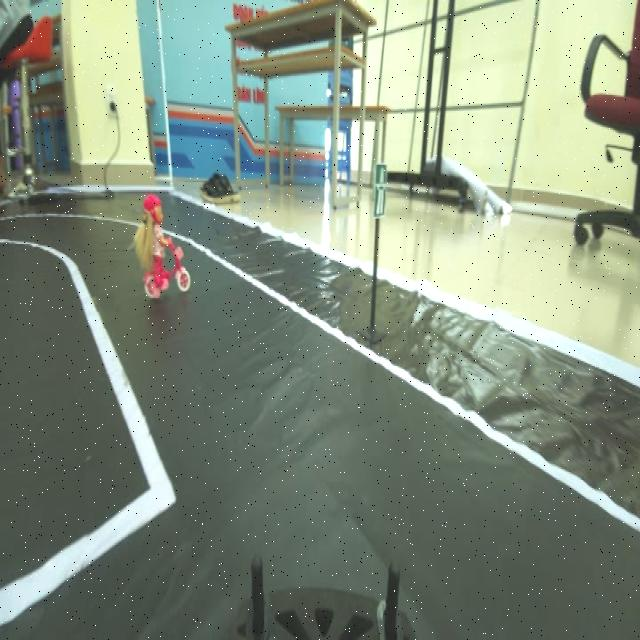highway_entry: (363, 162, 398, 222)
pedestrian: (134, 192, 198, 299)
